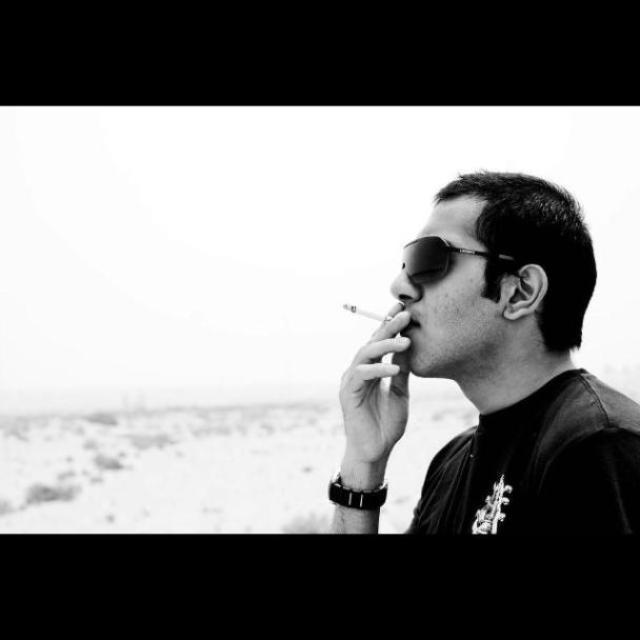rokok: (334, 296, 422, 344)
